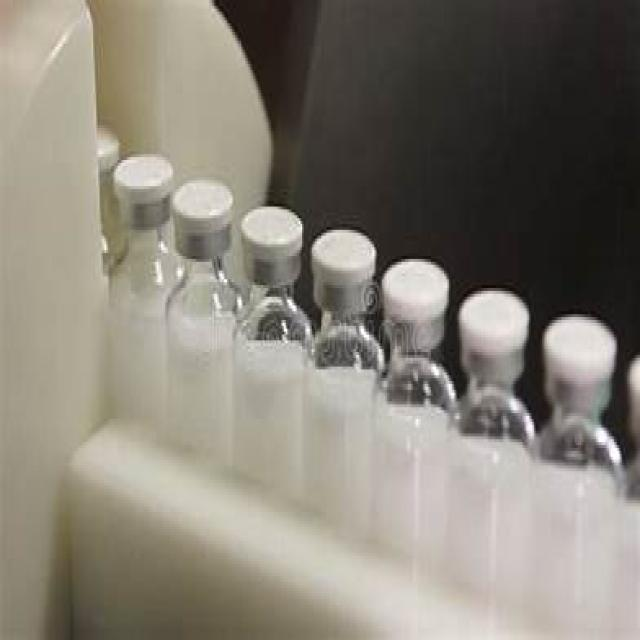vial: (546, 306, 614, 378), (381, 252, 447, 318), (466, 289, 524, 349), (176, 175, 230, 232), (245, 200, 298, 257), (122, 154, 171, 205), (320, 231, 369, 276), (93, 126, 127, 170), (634, 356, 640, 402)
